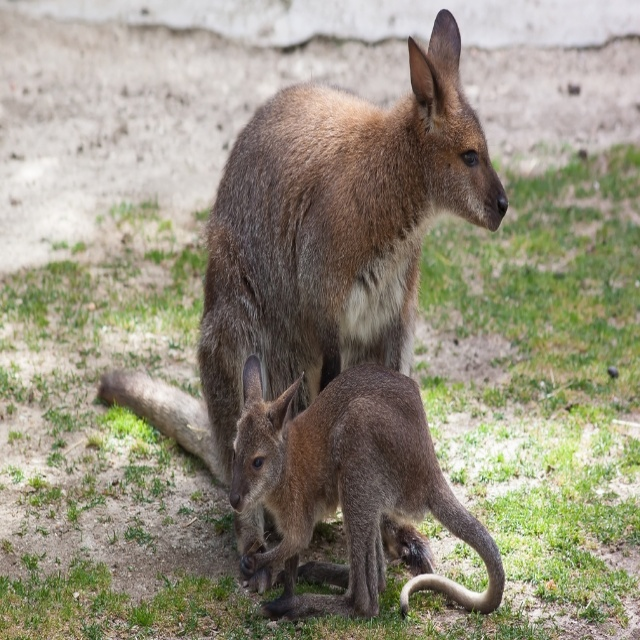Kangaroo: (99, 8, 509, 596), (228, 354, 505, 618)
